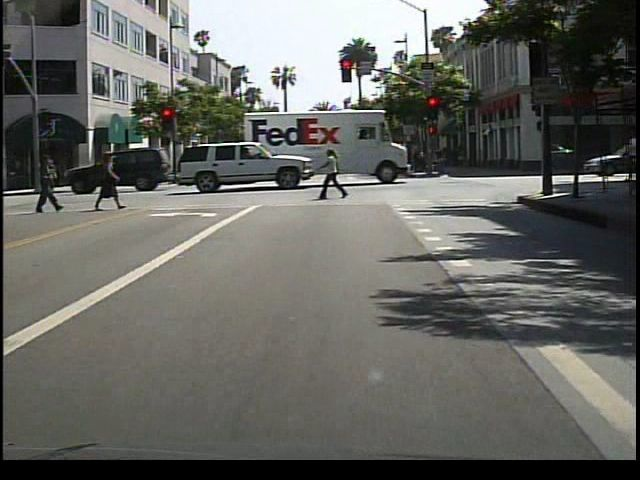person: (321, 147, 352, 206), (38, 153, 67, 213), (97, 151, 123, 214)
